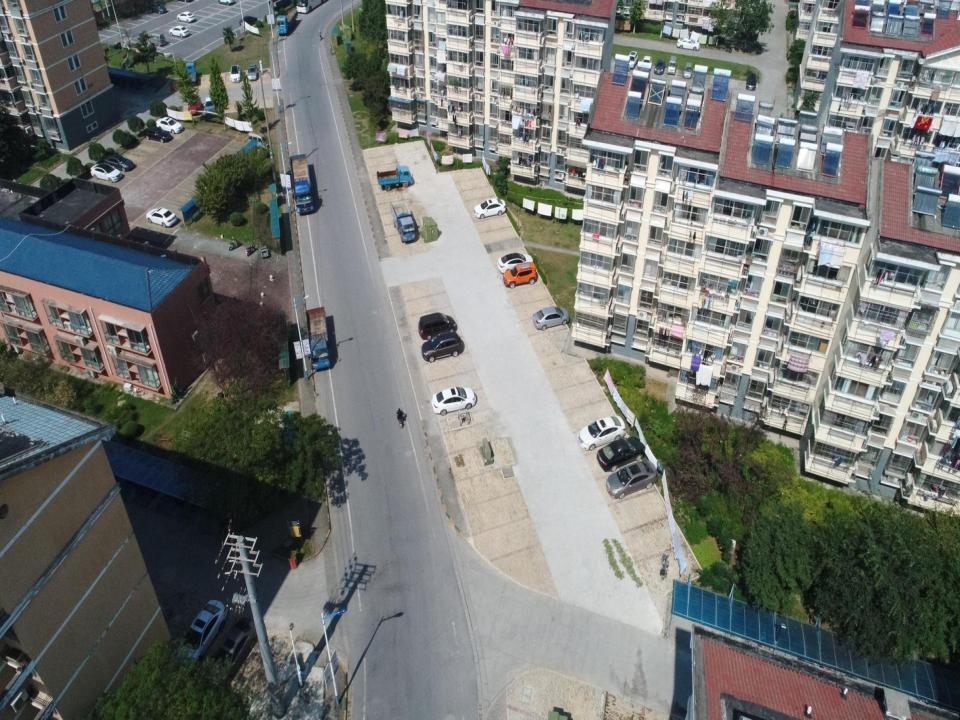bus: (297, 0, 310, 12)
car: (207, 615, 259, 687), (178, 598, 226, 664), (605, 460, 658, 500), (596, 436, 645, 472), (578, 415, 624, 449), (421, 332, 462, 363), (431, 387, 476, 415), (419, 312, 456, 338), (533, 306, 569, 330), (503, 263, 535, 287), (146, 206, 178, 228), (497, 252, 532, 272), (474, 198, 504, 218), (90, 164, 122, 182), (105, 153, 134, 172), (156, 114, 183, 133), (144, 126, 171, 142), (676, 38, 700, 50), (176, 11, 195, 23), (170, 26, 190, 37), (240, 15, 257, 27), (204, 96, 216, 113), (746, 72, 756, 91), (628, 52, 638, 71), (230, 65, 241, 82), (247, 63, 258, 80), (150, 3, 168, 13), (641, 56, 651, 72), (654, 60, 665, 74), (683, 62, 692, 78), (216, 0, 234, 5)
truck: (290, 154, 314, 213), (390, 199, 416, 243), (377, 162, 412, 191), (276, 11, 297, 34), (184, 62, 197, 84)
van: (248, 131, 269, 149), (150, 33, 167, 46), (668, 56, 676, 75)
